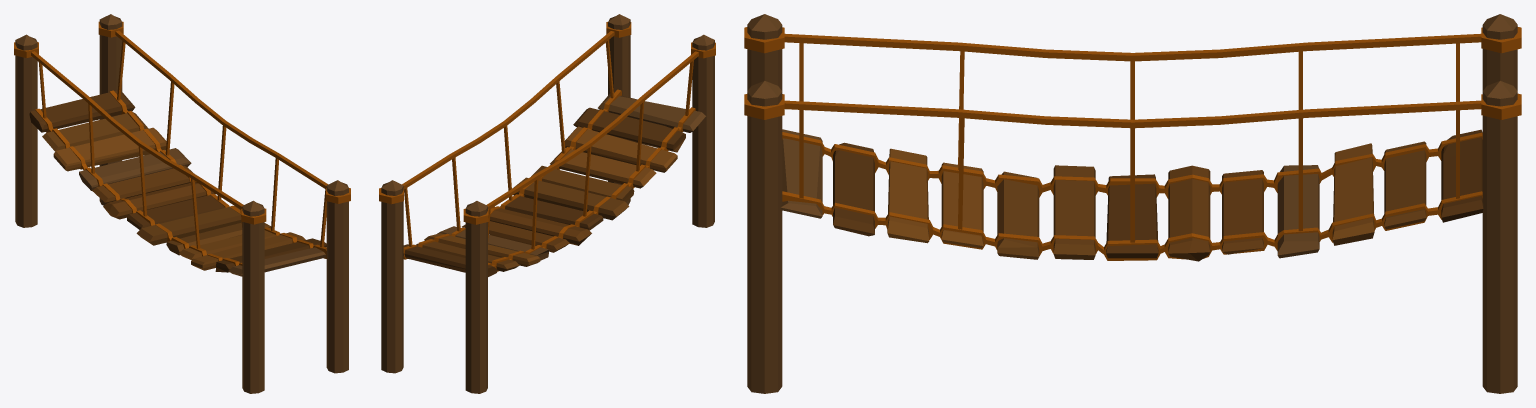
Rendered from bridge.glb.
The picture shows the model from 3 angles, left to right: view 1: azimuth 30°, elevation 25°; view 2: azimuth 150°, elevation 25°; view 3: azimuth 270°, elevation 25°; orthographic projection. The views are drawn at different scales.
Parts seen in each view (by area): view 1: Long_bridge; view 2: Long_bridge; view 3: Long_bridge.
Part boxes in pixels (left/top/right/bottom): Long_bridge: left=14, top=14, right=350, bottom=393; Long_bridge: left=379, top=14, right=715, bottom=393; Long_bridge: left=744, top=14, right=1521, bottom=393.
Bounding box in the file's own units: 0.3853 × 0.6187 × 1.43.
1 material, 1 textured.
